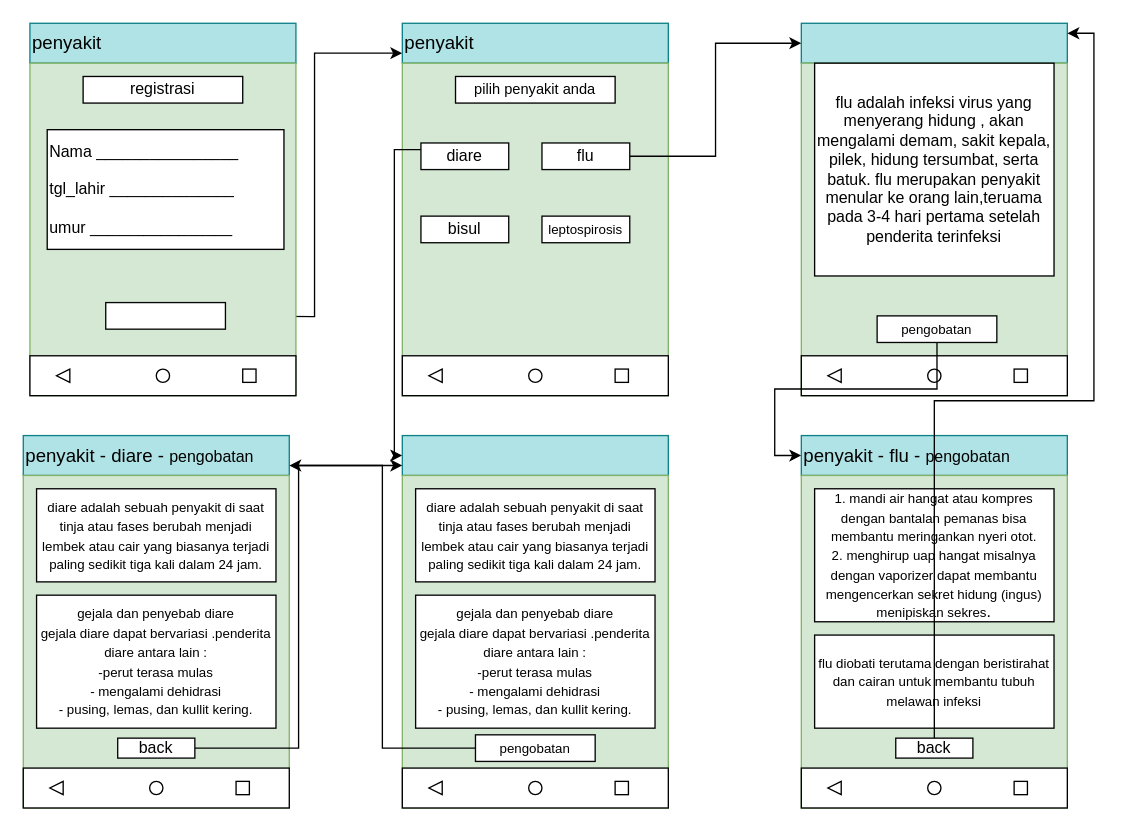
Some shapes in this 1128 by 831 pixel diagram are drawn without their labels. The shapes that lost their labels are listed below. From the top down, each one's box as (x1, y1, x2, y2) in pixels, then its label:
(800, 22, 1067, 63): penyakit - flu
(104, 301, 225, 329): simpan
(401, 434, 668, 475): penyakit - diare
